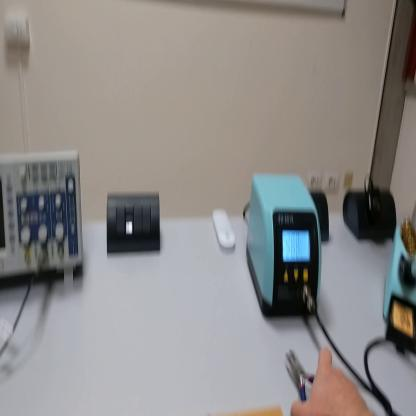hand: (292, 350, 370, 416)
oscilloscope: (2, 154, 87, 298)
pliers: (286, 360, 317, 409)
socket: (344, 181, 398, 244), (313, 188, 333, 245)
welder base: (384, 210, 416, 356)
welder station: (246, 174, 325, 325)
working area: (236, 403, 284, 416)
